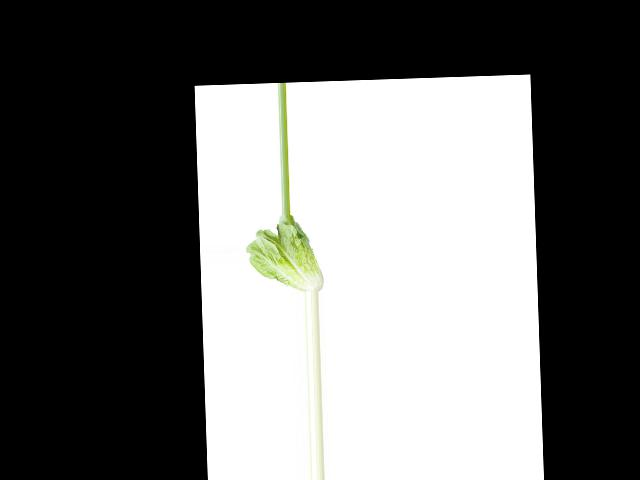lettuce: (244, 215, 324, 293)
